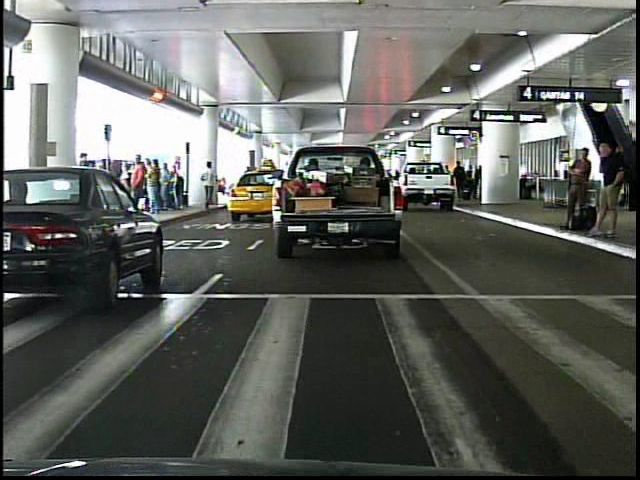person: (590, 137, 627, 240), (559, 137, 594, 238), (125, 153, 150, 219), (200, 160, 222, 212)
